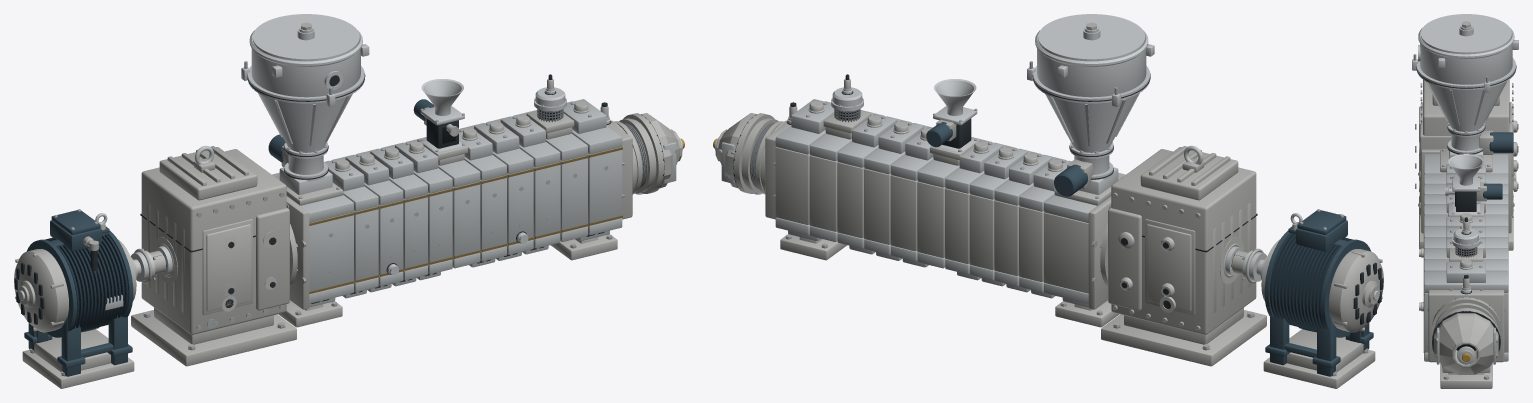
Rendered from twin-screw-extruder.glb.
3 renders of one model, left to right at view 1: azimuth 30°, elevation 25°; view 2: azimuth 150°, elevation 25°; view 3: azimuth 270°, elevation 25°, orthographic. The views are drawn at different scales.
Parts seen in each view (by area): view 1: GEARBOX_housing__deq, MAIN_HOPPER_BODY__deq, MOTOR_body__deq, GEARBOX_base__deq, MAIN_HOPPER_LID__deq, MOTOR_fan_shroud__deq, BARREL_FEED_THROAT_front__deq, MOTOR_base__deq, MOTOR_feet__deq, BARREL_TZ_08_front__deq, BARREL_supports__deq, BARREL_SIDE_FEED_PORT_front__deq (+41 smaller); view 2: GEARBOX_housing__deq, MAIN_HOPPER_BODY__deq, MOTOR_body__deq, GEARBOX_base__deq, BARREL_FEED_THROAT_body__deq, MAIN_HOPPER_LID__deq, BARREL_TZ_08_body__deq, MOTOR_fan_shroud__deq, BARREL_VENT_PORT_body__deq, BARREL_SIDE_FEED_PORT_body__deq, MOTOR_base__deq, BARREL_TZ_05_body__deq (+31 smaller); view 3: MAIN_HOPPER_BODY__deq, DIE_HOUSING__deq, MAIN_HOPPER_LID__deq, GEARBOX_housing__deq, MELT_ADAPTER__deq, BARREL_TZ_08_body__deq, MAIN_HOPPER_CLAMP__deq, SIDE_FEEDER_HOUSING__deq, VENT_STACK__deq, BARREL_supports__deq, BARREL_TZ_08_top__deq, BARREL_drive_end_flange__deq (+32 smaller).
Boxes of the visible parts, x1=… form: GEARBOX_housing__deq: x1=140, y1=146, x2=289, y2=334; MAIN_HOPPER_BODY__deq: x1=249, y1=30, x2=362, y2=174; MOTOR_body__deq: x1=26, y1=231, x2=133, y2=337; GEARBOX_base__deq: x1=131, y1=307, x2=296, y2=366; MAIN_HOPPER_LID__deq: x1=252, y1=14, x2=359, y2=61; MOTOR_fan_shroud__deq: x1=14, y1=249, x2=68, y2=332; BARREL_FEED_THROAT_front__deq: x1=309, y1=212, x2=353, y2=291; MOTOR_base__deq: x1=22, y1=329, x2=134, y2=388; MOTOR_feet__deq: x1=24, y1=315, x2=132, y2=376; BARREL_TZ_08_front__deq: x1=587, y1=147, x2=622, y2=224; BARREL_supports__deq: x1=278, y1=234, x2=617, y2=327; BARREL_SIDE_FEED_PORT_front__deq: x1=452, y1=181, x2=480, y2=257; GEARBOX_housing__deq: x1=1108, y1=146, x2=1257, y2=334; MAIN_HOPPER_BODY__deq: x1=1035, y1=30, x2=1148, y2=174; MOTOR_body__deq: x1=1264, y1=231, x2=1371, y2=337; GEARBOX_base__deq: x1=1101, y1=307, x2=1266, y2=366; BARREL_FEED_THROAT_body__deq: x1=1044, y1=172, x2=1125, y2=303; MAIN_HOPPER_LID__deq: x1=1038, y1=14, x2=1145, y2=61; BARREL_TZ_08_body__deq: x1=775, y1=101, x2=830, y2=235; MOTOR_fan_shroud__deq: x1=1329, y1=249, x2=1383, y2=332; BARREL_VENT_PORT_body__deq: x1=809, y1=110, x2=884, y2=241; BARREL_SIDE_FEED_PORT_body__deq: x1=917, y1=137, x2=991, y2=268; MOTOR_base__deq: x1=1263, y1=329, x2=1375, y2=388; BARREL_TZ_05_body__deq: x1=890, y1=155, x2=933, y2=261; MAIN_HOPPER_BODY__deq: x1=1418, y1=28, x2=1514, y2=150; DIE_HOUSING__deq: x1=1434, y1=313, x2=1498, y2=374; MAIN_HOPPER_LID__deq: x1=1420, y1=14, x2=1511, y2=54; GEARBOX_housing__deq: x1=1419, y1=79, x2=1513, y2=215; MELT_ADAPTER__deq: x1=1427, y1=288, x2=1505, y2=362; BARREL_TZ_08_body__deq: x1=1423, y1=271, x2=1508, y2=361; MAIN_HOPPER_CLAMP__deq: x1=1412, y1=54, x2=1516, y2=154; SIDE_FEEDER_HOUSING__deq: x1=1445, y1=176, x2=1480, y2=214; VENT_STACK__deq: x1=1449, y1=228, x2=1483, y2=261; BARREL_supports__deq: x1=1440, y1=363, x2=1492, y2=388; BARREL_TZ_08_top__deq: x1=1446, y1=259, x2=1485, y2=282; BARREL_drive_end_flange__deq: x1=1418, y1=149, x2=1514, y2=233.
Size of the model in its own units: 3.23 by 1.33 by 0.5316.
